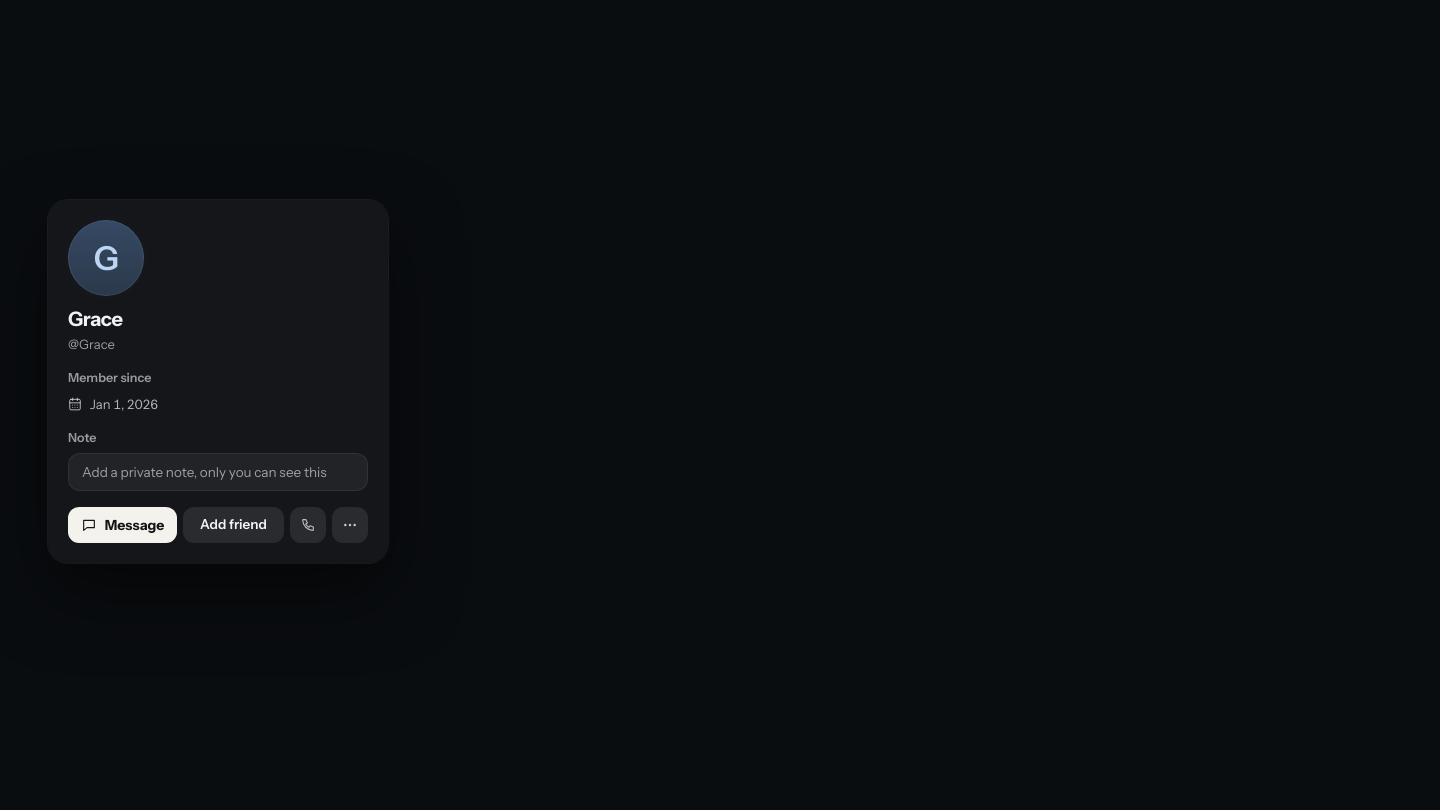
Test: UserProfilePopup action feedback › shows API detail when blocking a user fails
The image size is (1440, 810).
Step 1. Click the button named "More actions" → (350, 525), box [332,507,368,543]
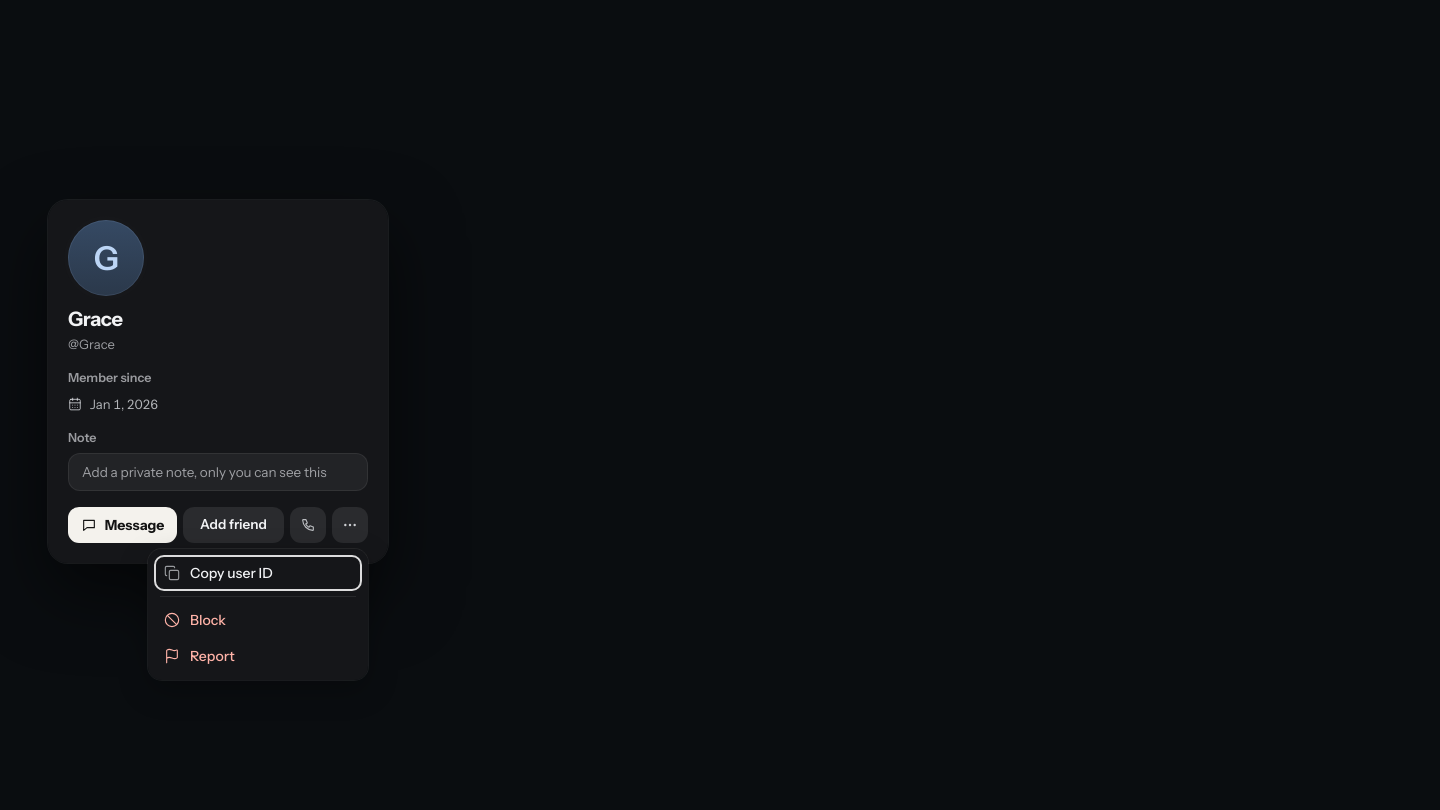
Step 2. Click the menu item "Block" → (258, 620), box [154,602,362,638]
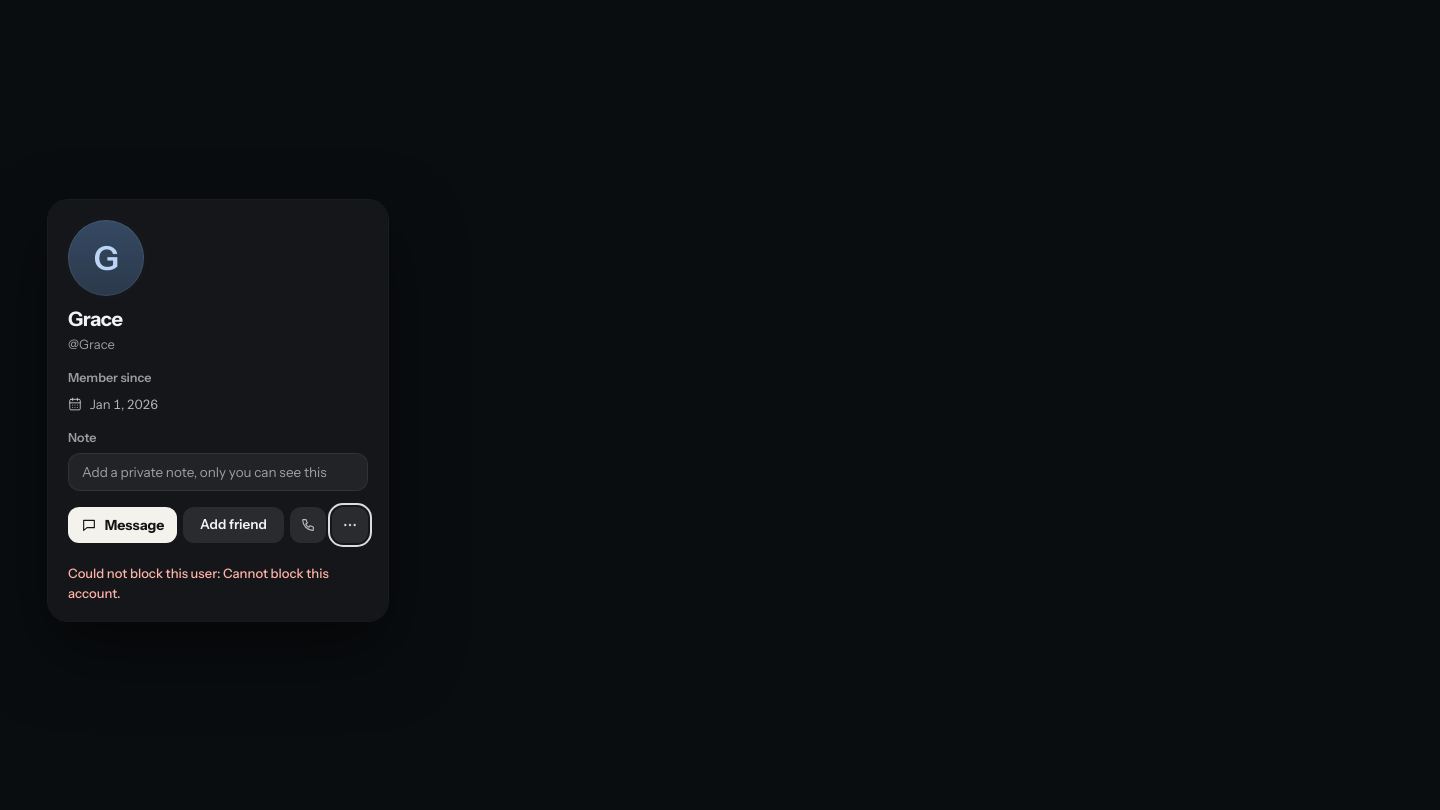
Check: the message reads "Could not block this user: Cannot block this account.", box [68,565,329,601]
